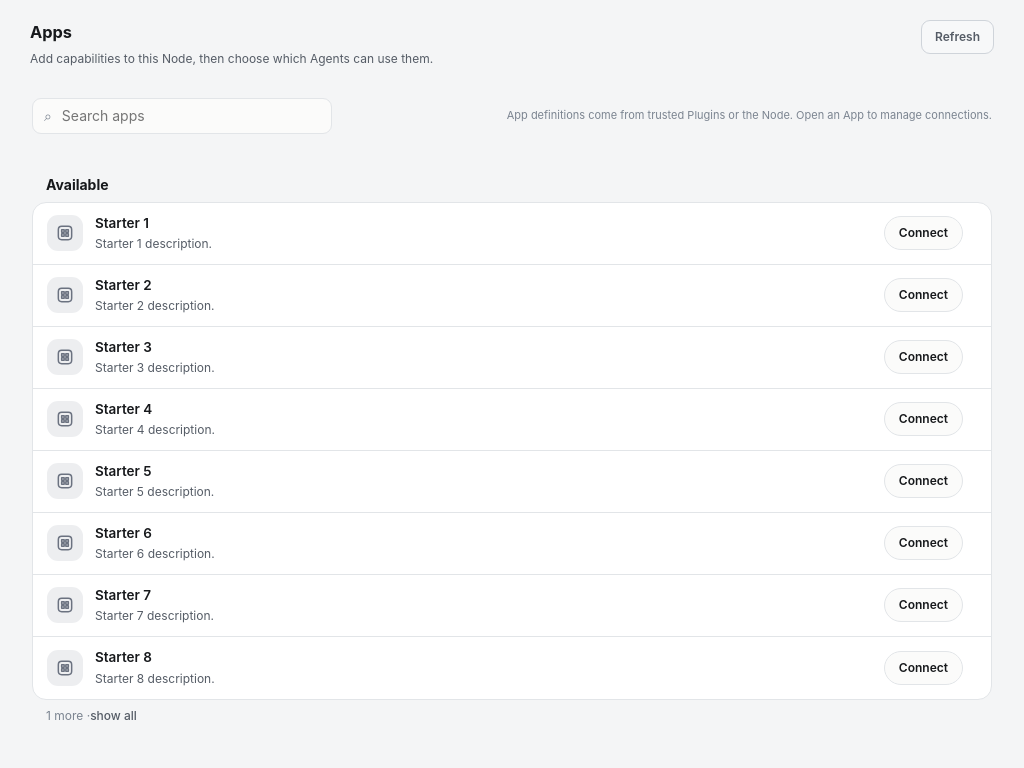
Test: Extensions settings › uses an eight-row starter fold without repeating routine setup metadata
Check: the text "Starter 1" is shown, box top-left (95, 215), bottom-right (149, 231)
Check: the text "1 more ·" is shown, box top-left (46, 707), bottom-right (90, 725)
Click the button with aria-label "Show all 9": (114, 716) top-left (90, 707), bottom-right (137, 725)
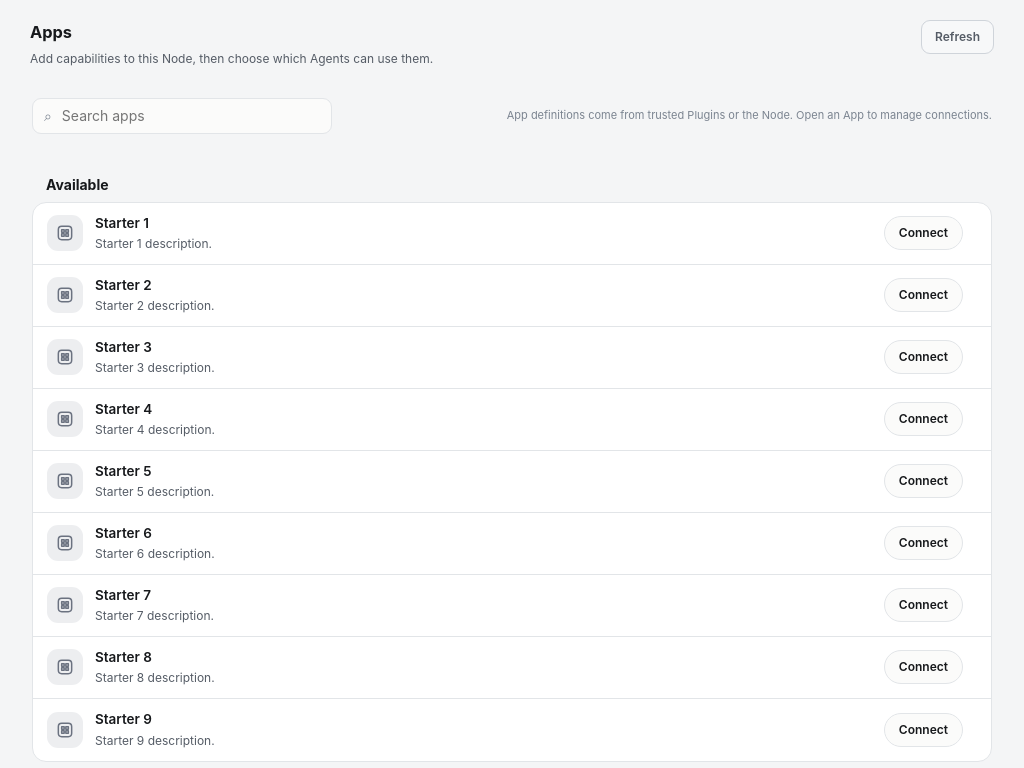
Check: the text "Starter 9" is shown, box top-left (95, 711), bottom-right (152, 727)
